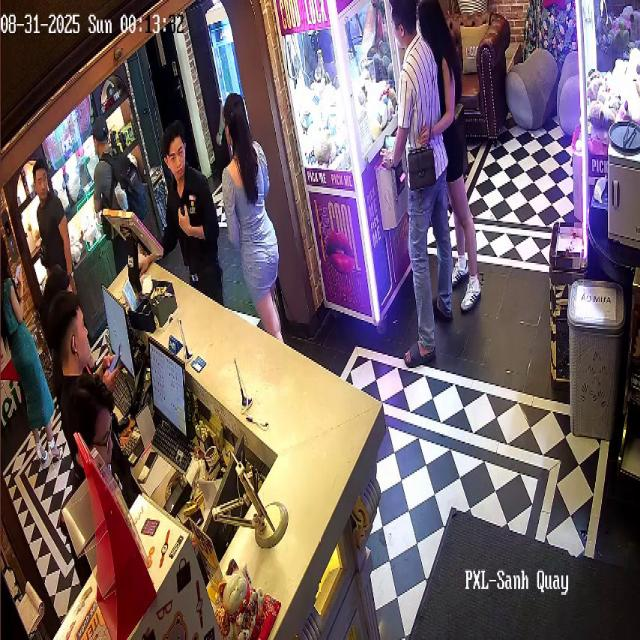khach: (387, 1, 453, 372), (220, 92, 284, 331), (437, 0, 483, 313), (3, 232, 57, 481), (90, 119, 143, 268), (30, 160, 76, 297)
nhan vien: (160, 120, 215, 301), (51, 282, 91, 459), (80, 372, 124, 494)
